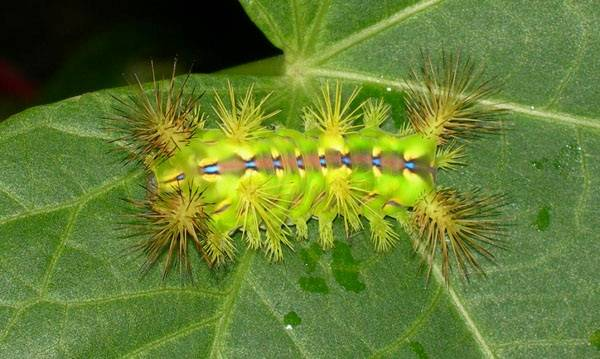Pest! (nettle_caterpillar): (83, 51, 508, 278)
